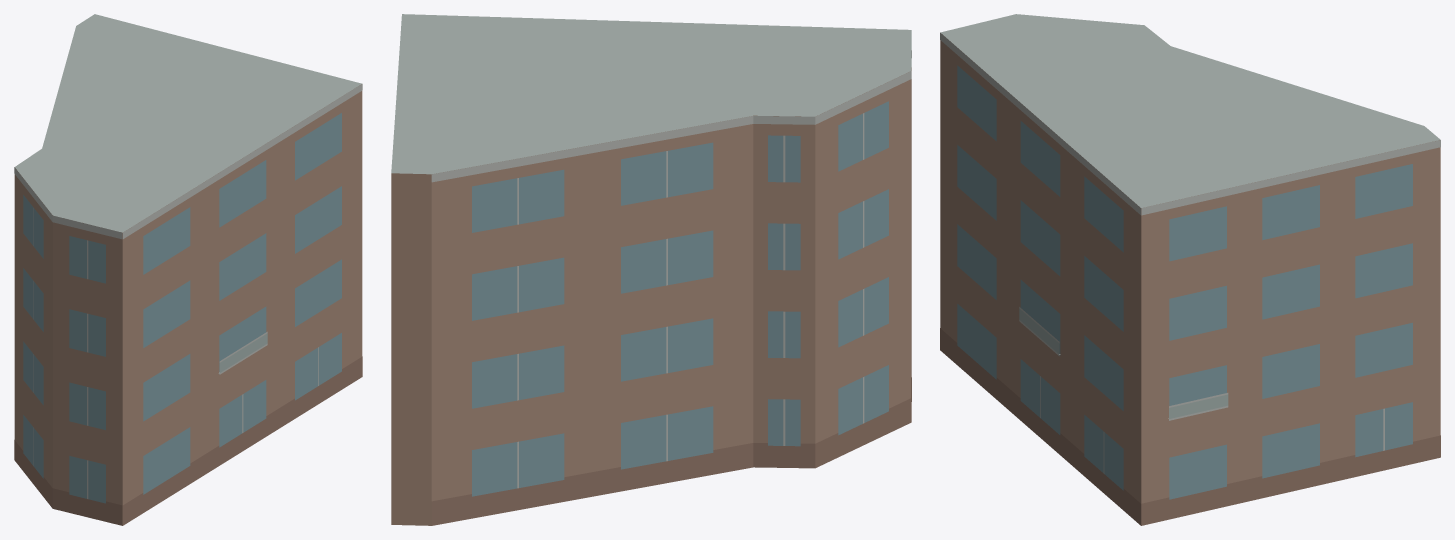
Rendered from survey-upis-32954477.glb.
The picture shows the model from 3 angles, left to right: view 1: azimuth 30°, elevation 25°; view 2: azimuth 150°, elevation 25°; view 3: azimuth 270°, elevation 25°; orthographic projection. The views are drawn at different scales.
Parts seen in each view (by area): view 1: survey-upis-32954477.tmp; view 2: survey-upis-32954477.tmp; view 3: survey-upis-32954477.tmp.
Boxes of the visible parts, left/top/right/bottom form: survey-upis-32954477.tmp: left=14, top=14, right=362, bottom=525; survey-upis-32954477.tmp: left=391, top=14, right=911, bottom=525; survey-upis-32954477.tmp: left=940, top=14, right=1440, bottom=525.
Bounding box in the file's own units: 13.77 × 10.5 × 15.
